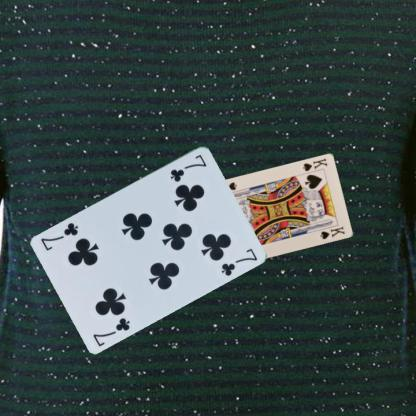7c: (90, 314, 131, 348), (168, 152, 209, 184)
Ks: (300, 156, 328, 173)
